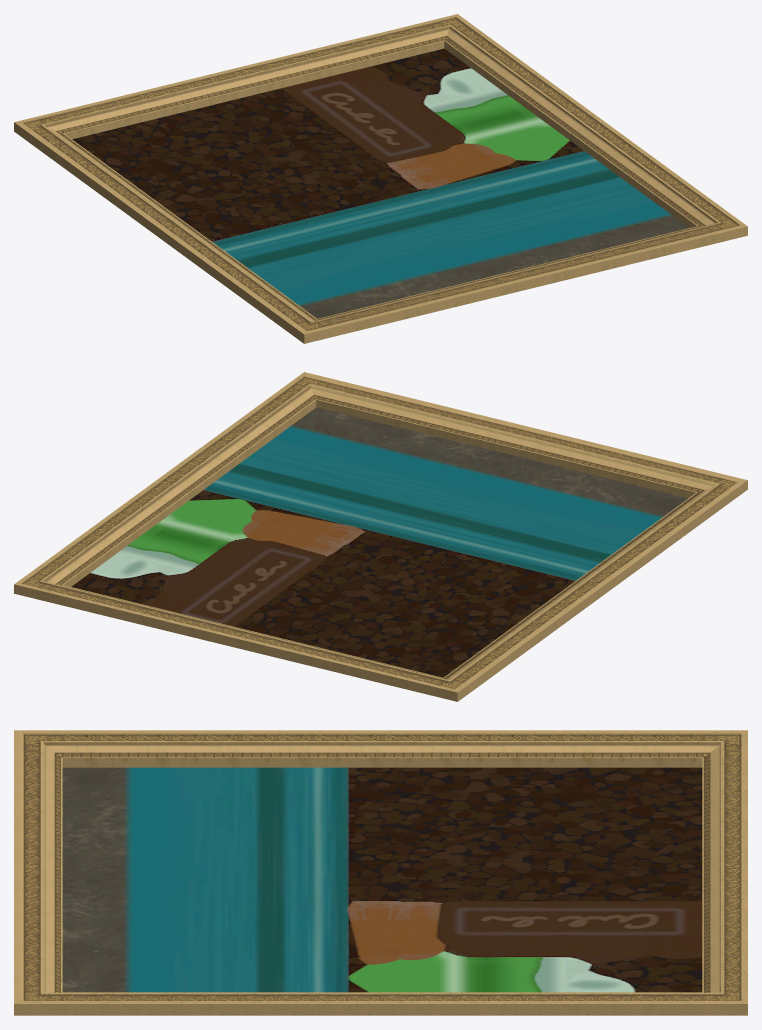
Rendered from art22.fbx.
3 renders of one model, top to bottom at view 1: azimuth 30°, elevation 25°; view 2: azimuth 150°, elevation 25°; view 3: azimuth 270°, elevation 25°, orthographic. The views are drawn at different scales.
Visible parts, largest first — view 1: LasMeninas__mBody, FrameGold0_low1__mFrameGold0.001; view 2: LasMeninas__mBody, FrameGold0_low1__mFrameGold0.001; view 3: LasMeninas__mBody, FrameGold0_low1__mFrameGold0.001.
Boxes of the visible parts, x1,y1,x2,y2 form: LasMeninas__mBody: (72,48,688,318); FrameGold0_low1__mFrameGold0.001: (14,14,747,343); LasMeninas__mBody: (71,407,688,677); FrameGold0_low1__mFrameGold0.001: (14,372,747,701); LasMeninas__mBody: (62,767,702,992); FrameGold0_low1__mFrameGold0.001: (14,730,747,1015).
Size of the model in its own units: 696 by 28.64 by 788.
